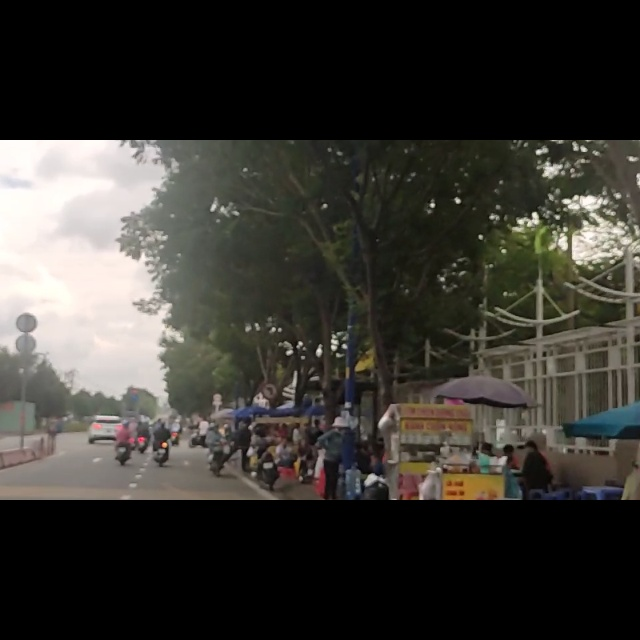bien_cam: (259, 429, 280, 463)
